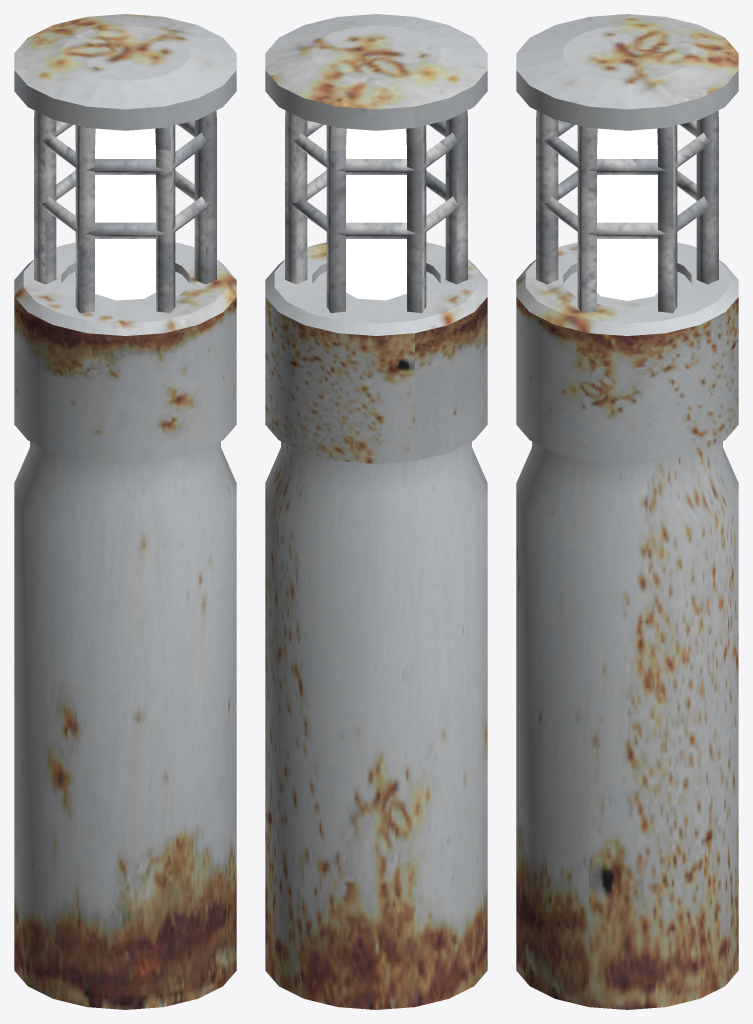
The model's file is IndustrialLamp_Floor_ALL.FBX.
3 views of the same model, side by side, from view 1: azimuth 30°, elevation 25°; view 2: azimuth 150°, elevation 25°; view 3: azimuth 270°, elevation 25° (orthographic).
Visible parts, largest first — view 1: IndustrialLamp_Floor_LOD0, Source; view 2: IndustrialLamp_Floor_LOD0, Source; view 3: IndustrialLamp_Floor_LOD0, Source.
Part boxes in pixels (bbox=[...]): IndustrialLamp_Floor_LOD0: bbox=[14, 14, 236, 1009]; Source: bbox=[95, 128, 155, 300]; IndustrialLamp_Floor_LOD0: bbox=[265, 14, 487, 1009]; Source: bbox=[346, 128, 406, 300]; IndustrialLamp_Floor_LOD0: bbox=[516, 14, 738, 1009]; Source: bbox=[597, 128, 657, 300].
Size of what is drawn, in the model's own units: 240 by 1066 by 236.
